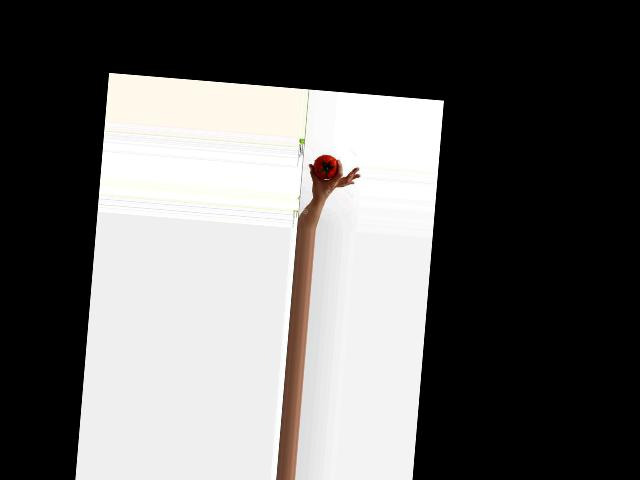tomato: (312, 154, 338, 180)
